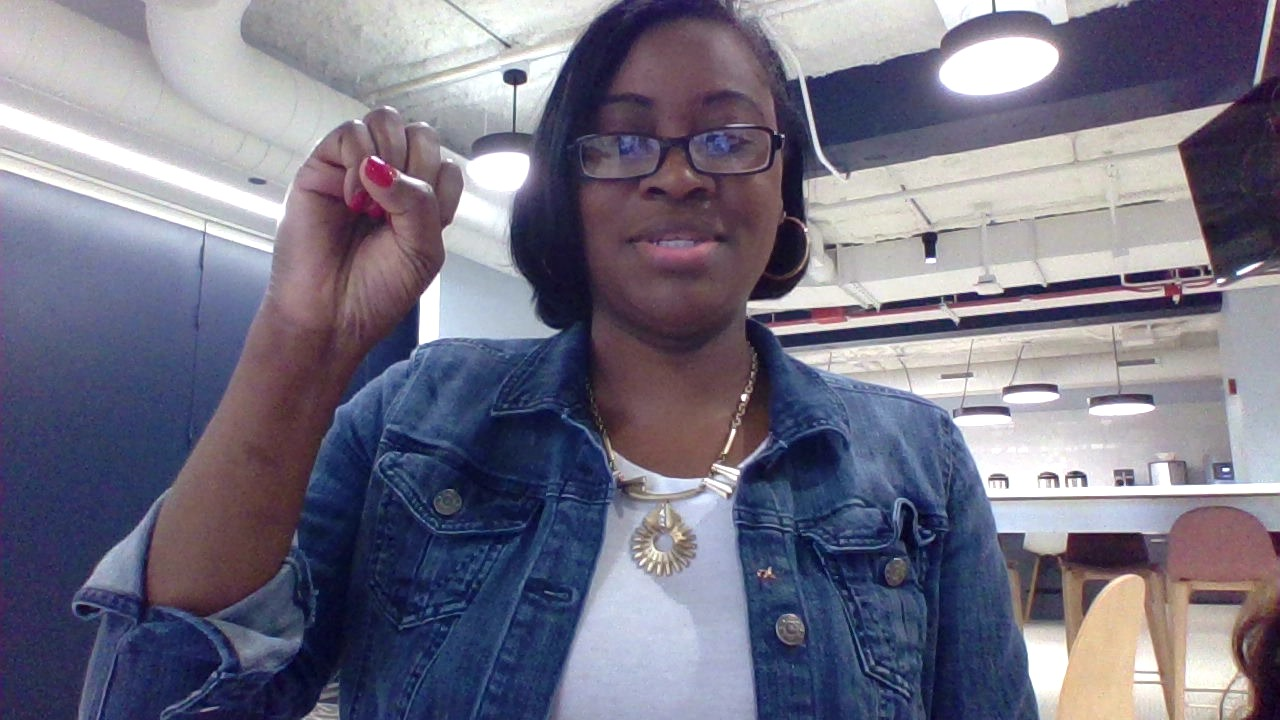e: (234, 105, 483, 380)
